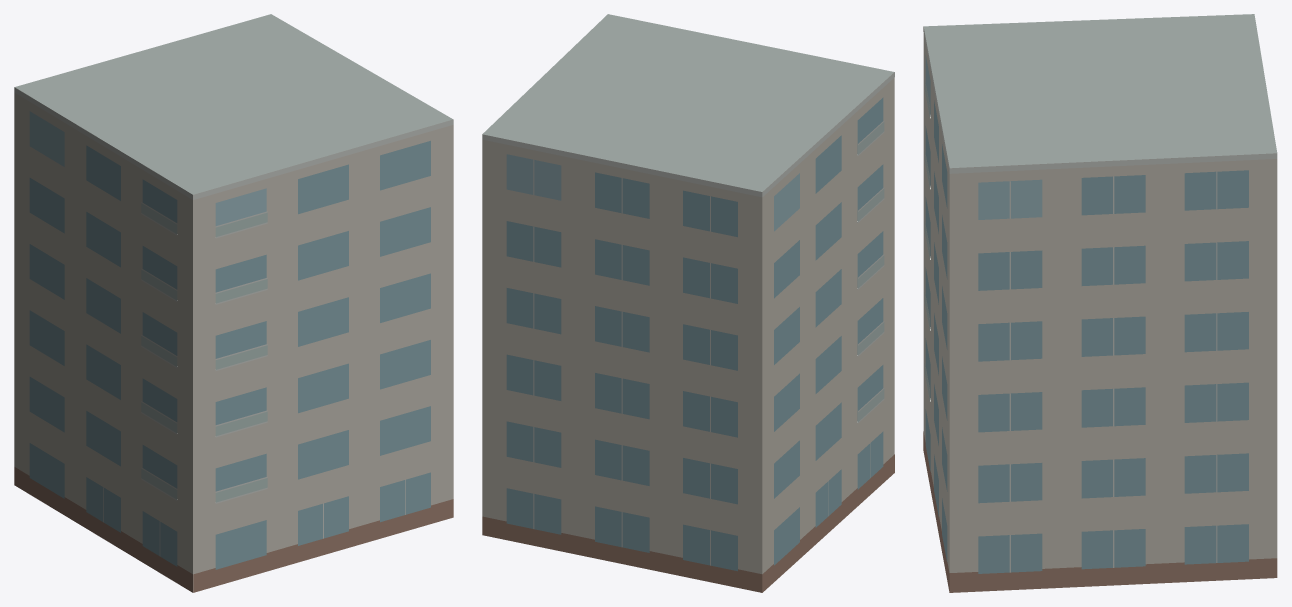
The model's file is survey-upis-32738049.glb.
The picture shows the model from 3 angles, left to right: view 1: azimuth 30°, elevation 25°; view 2: azimuth 150°, elevation 25°; view 3: azimuth 270°, elevation 25°; orthographic projection. The views are drawn at different scales.
Visible parts, largest first — view 1: survey-upis-32738049.tmp; view 2: survey-upis-32738049.tmp; view 3: survey-upis-32738049.tmp.
Boxes of the visible parts, x1,y1,x2,y2 form: survey-upis-32738049.tmp: [14, 14, 453, 592]; survey-upis-32738049.tmp: [482, 14, 894, 592]; survey-upis-32738049.tmp: [923, 14, 1277, 592].
Bounding box in the file's own units: 14.26 × 18.3 × 13.83.
